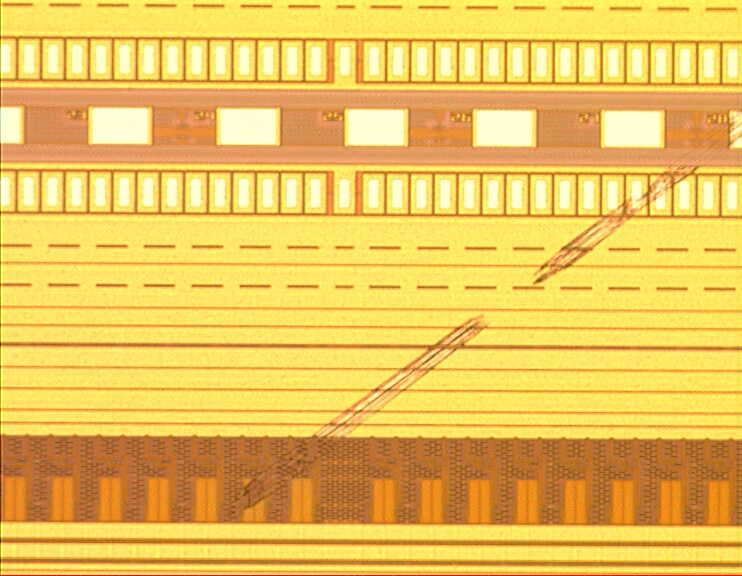SCRATCH: (224, 113, 742, 519)
